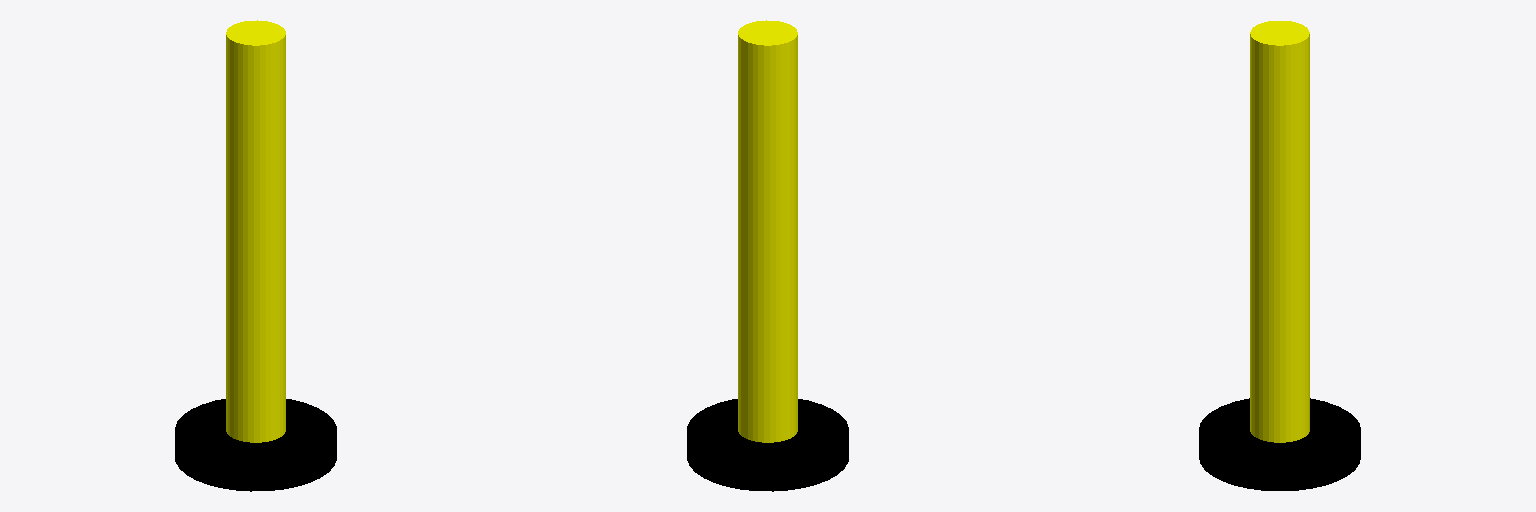
URDF robot description (yellow_post):
<?xml version="1.0"?>
<robot name="yellow_post">
  <link name="base"/>
   <joint name="base_joint" type="fixed">
     <origin rpy="0 0 0" xyz="0 0 0.0325"/>
     <parent link="base"/>
     <child link="cylinder_base"/>
   </joint>
  <link name="cylinder_base">
    <inertial>
      <origin xyz="0 0 0.025" rpy="0 0 0" />
      <mass value="18.0" />
      <inertia ixx="0.01703125" ixy="0" ixz="0" iyy="0.01703125" iyz="0"
          izz="0.0003125" />
    </inertial>
    <visual>
      <origin xyz="0 0 0" rpy="0 0 0" />
      <geometry>
        <cylinder length="0.065" radius="0.177" />
      </geometry>
      <material name="Black">
	<color rgba="0.0 0.0 0.0 1.0"/>
      </material>
    </visual>
    <collision>
      <geometry>
        <cylinder length="0.065" radius="0.177" />
      </geometry>
    </collision>
   </link>
   <joint name="post_joint" type="fixed">
     <origin rpy="0 0 0" xyz="0 0 0.51"/>
     <parent link="cylinder_base"/>
     <child link="post"/>
   </joint>
   <link name="post">
     <inertial>
       <origin xyz="0 0 0" rpy="0 0 0" />
       <mass value="2.0" />
       <inertia ixx="0.01703125" ixy="0" ixz="0" iyy="0.01703125" iyz="0"
		izz="0.0003125" />
     </inertial>
     <visual>
       <origin xyz="0 0 0" rpy="0 0 0" />
       <geometry>
         <cylinder length="0.955" radius="0.065" />
       </geometry>
       <material name="Yellow">
	 <color rgba="1.0 1.0 0.0 1.0"/>
       </material>
     </visual>
     <collision>
       <geometry>
         <cylinder length="0.955" radius="0.065" />
       </geometry>
     </collision>
   </link>
</robot>

--- Facts derived from the render (not from the file) ---
The picture shows the robot from 3 angles, left to right: view 1: azimuth 30°, elevation 25°; view 2: azimuth 150°, elevation 25°; view 3: azimuth 270°, elevation 25°; orthographic projection.
Model yellow_post with 3 links and 2 joints (2 fixed), rooted at base, posed all joints at 0.
Links seen in each view (by area): view 1: post, cylinder_base; view 2: post, cylinder_base; view 3: post, cylinder_base.
Boxes of the visible links, x1,y1,x2,y2 form: post: [226, 20, 285, 442]; cylinder_base: [175, 399, 336, 491]; post: [738, 20, 797, 442]; cylinder_base: [687, 399, 848, 491]; post: [1250, 21, 1309, 442]; cylinder_base: [1199, 398, 1360, 490].
Bounding box of the posed robot: 0.354 × 0.354 × 1.02 m (x, y, z).
Geometry: primitives only (box / cylinder / sphere), no mesh files.